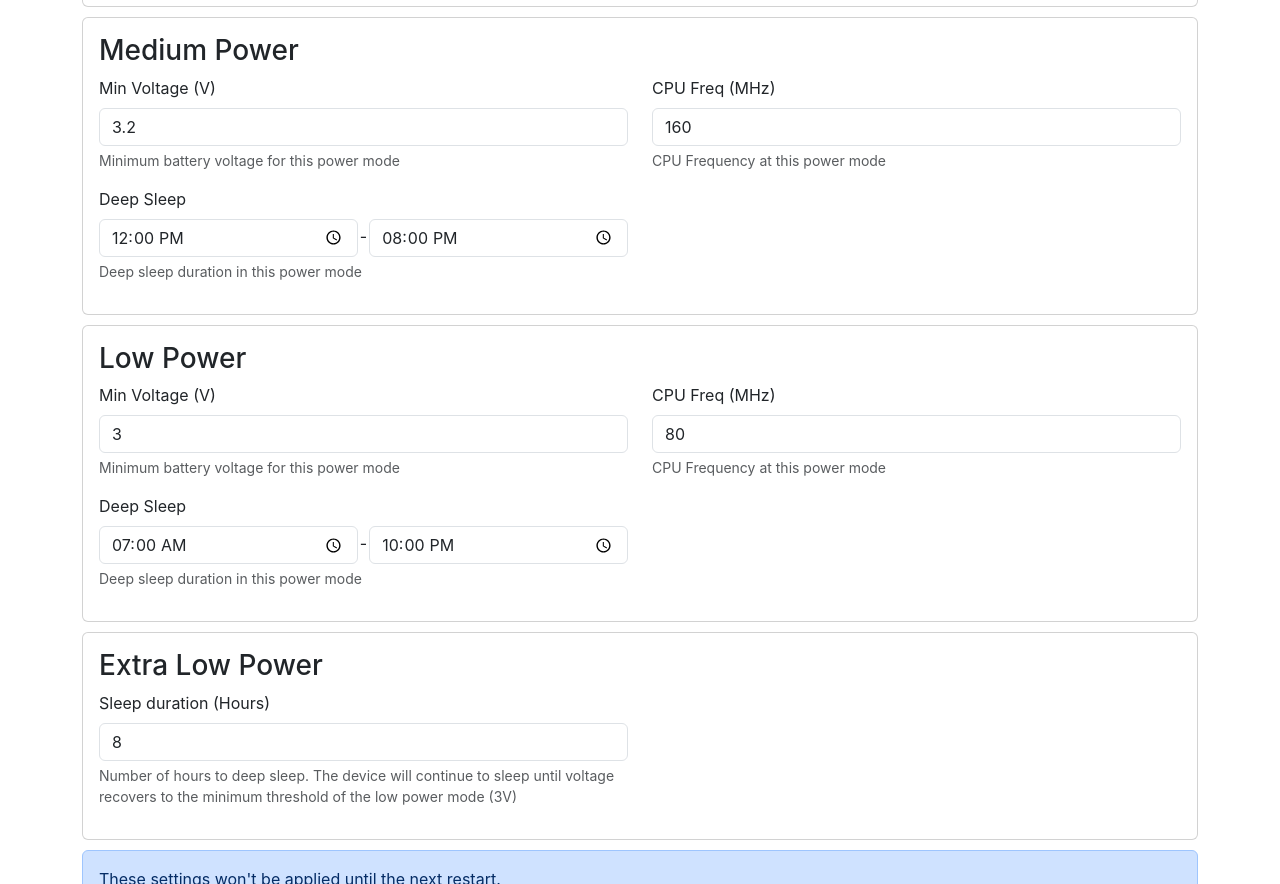
Scenario: when saving › validation error when incorrect low power min voltage
The image size is (1280, 884).
(page scrolled)
Clear the number field with test id "low-power-min-voltage": (364, 434) top-left (99, 415), bottom-right (628, 453)
(page scrolled)
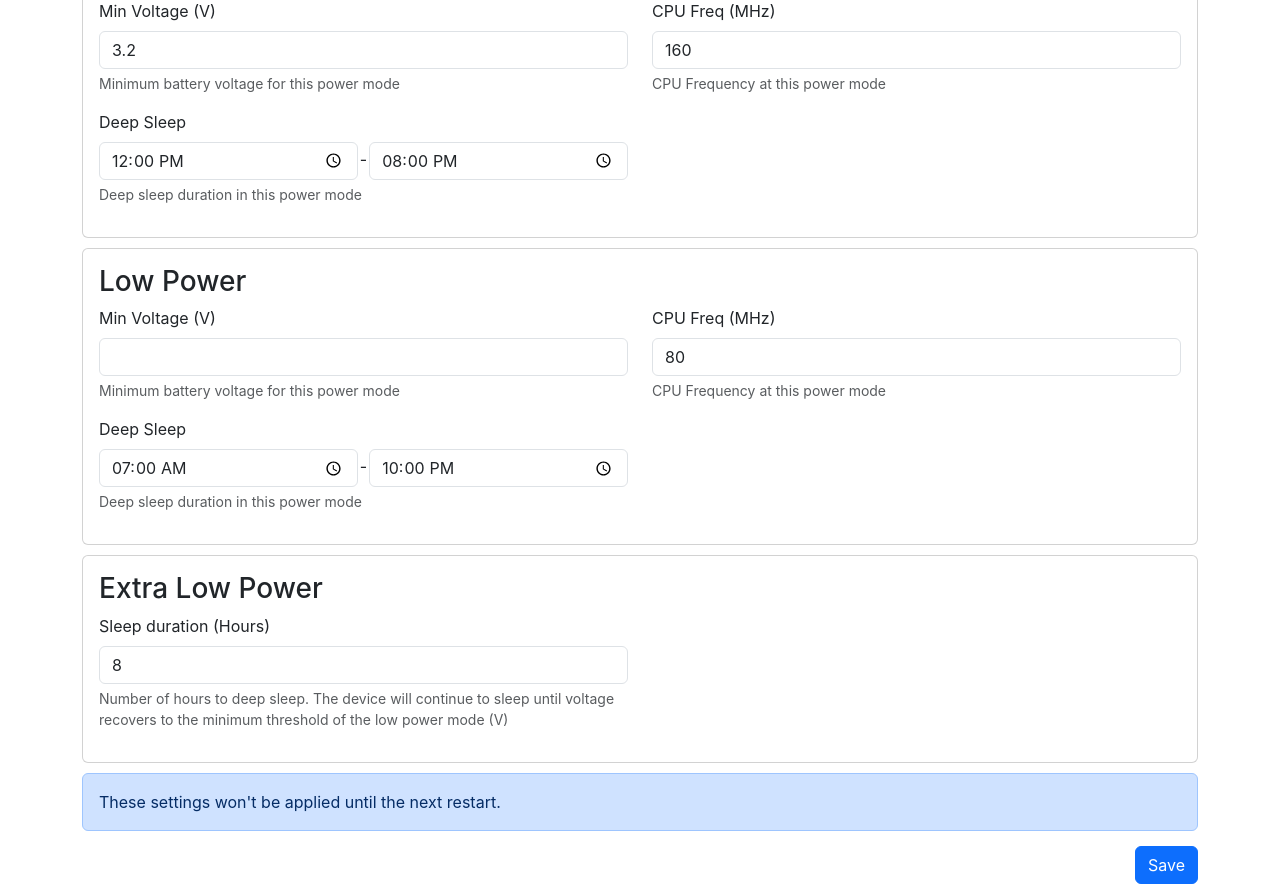
Click the button with test id "save-button": (1166, 865) top-left (1135, 846), bottom-right (1198, 883)
(page scrolled)
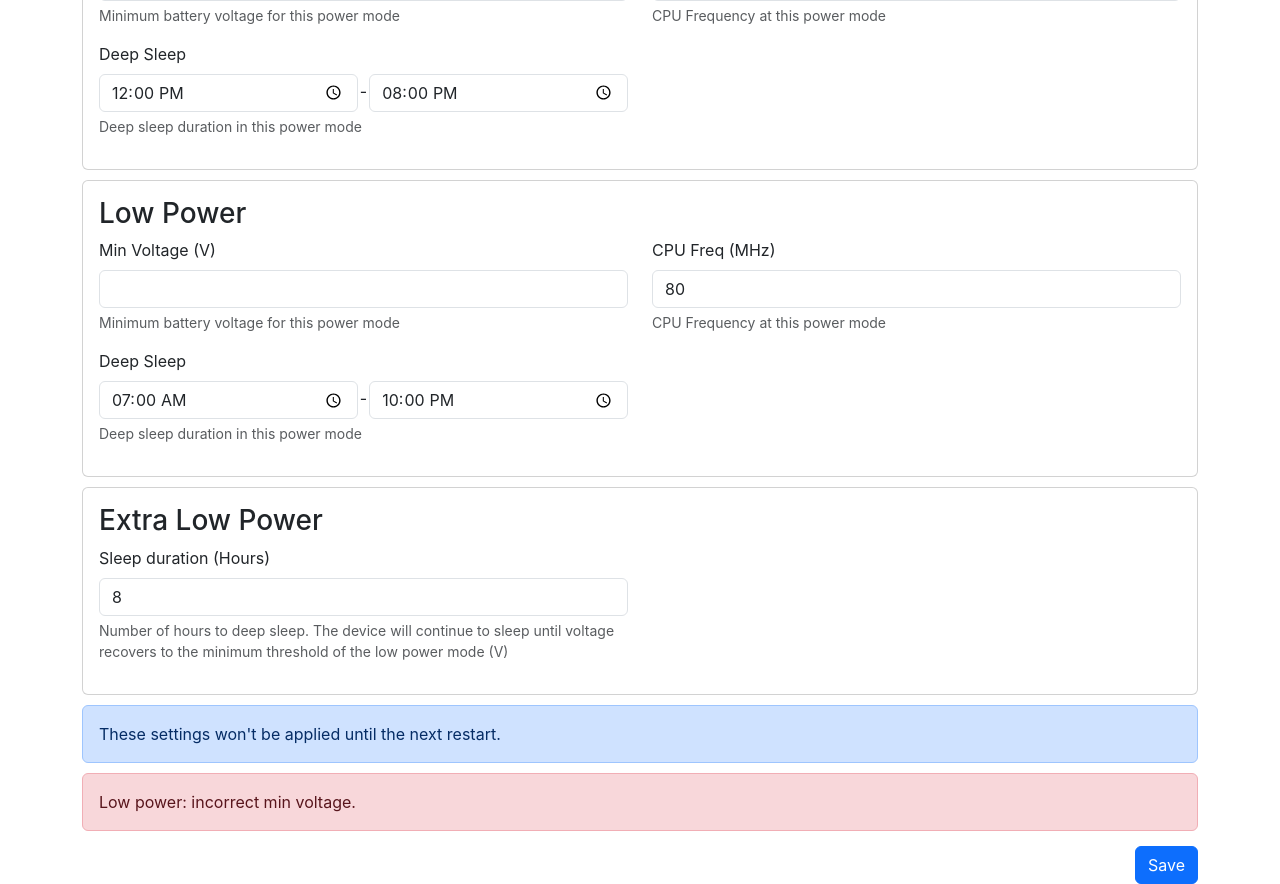
Expected: the element with test id "power-config-validation-error" shows "Low power: incorrect min voltage", top-left (99, 792), bottom-right (356, 812)
